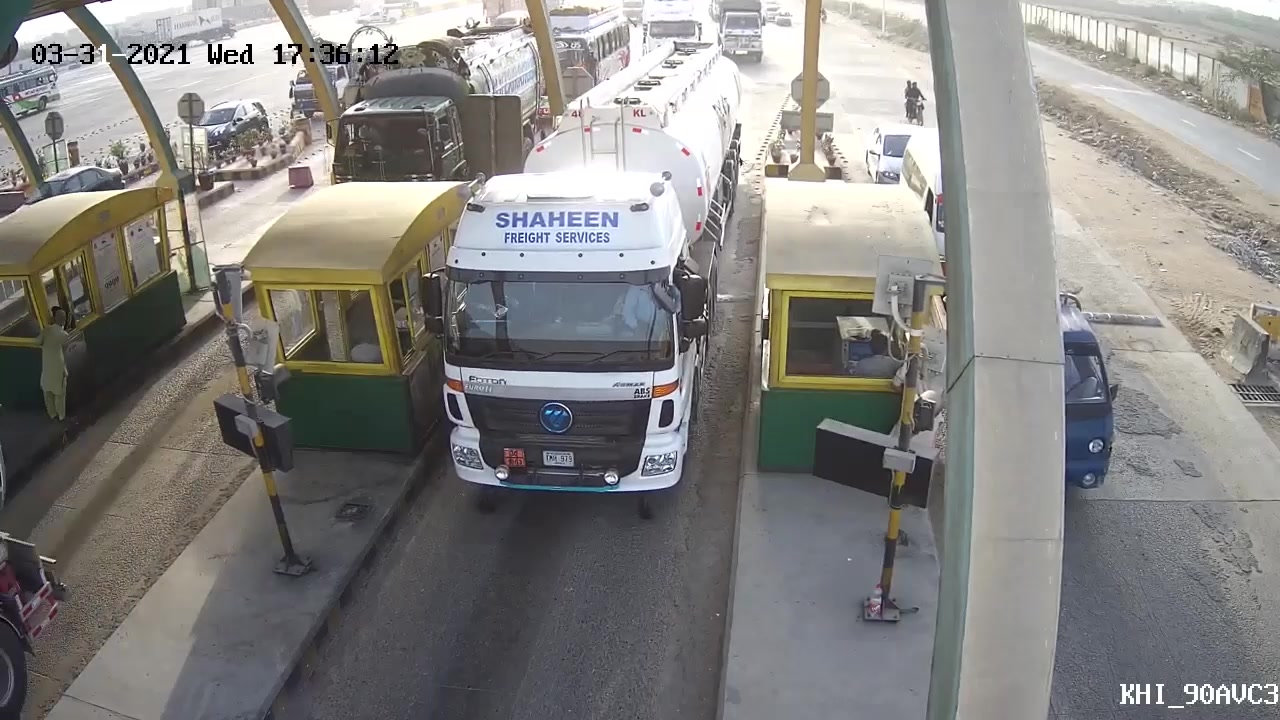F6: (433, 27, 762, 513)
